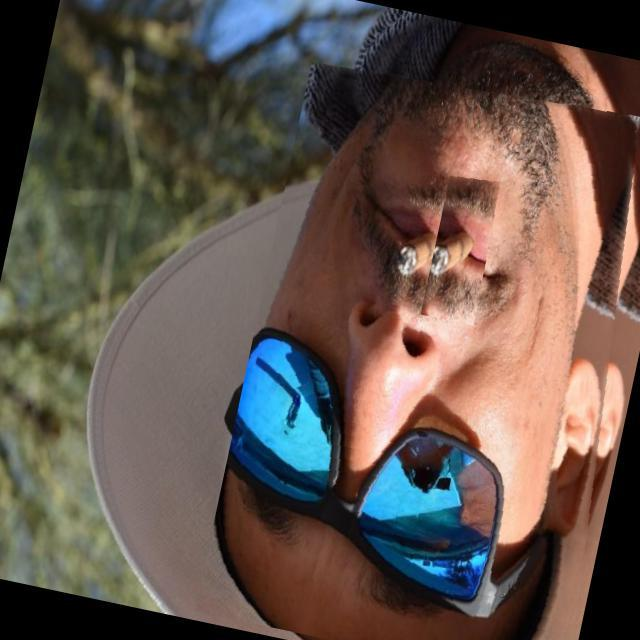cigarette: (422, 172, 504, 326)
